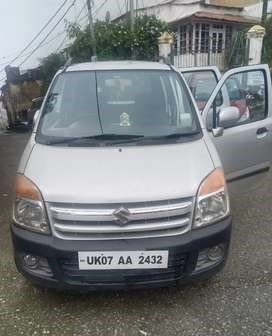UK07AA2432: (78, 250, 168, 269)
